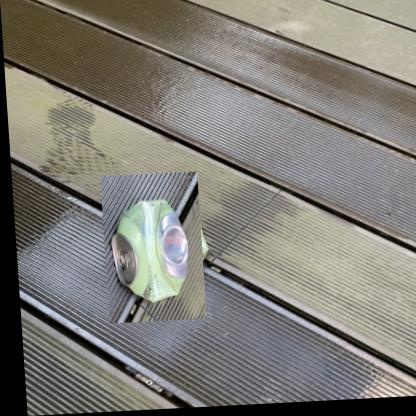trash: (112, 199, 187, 302)
